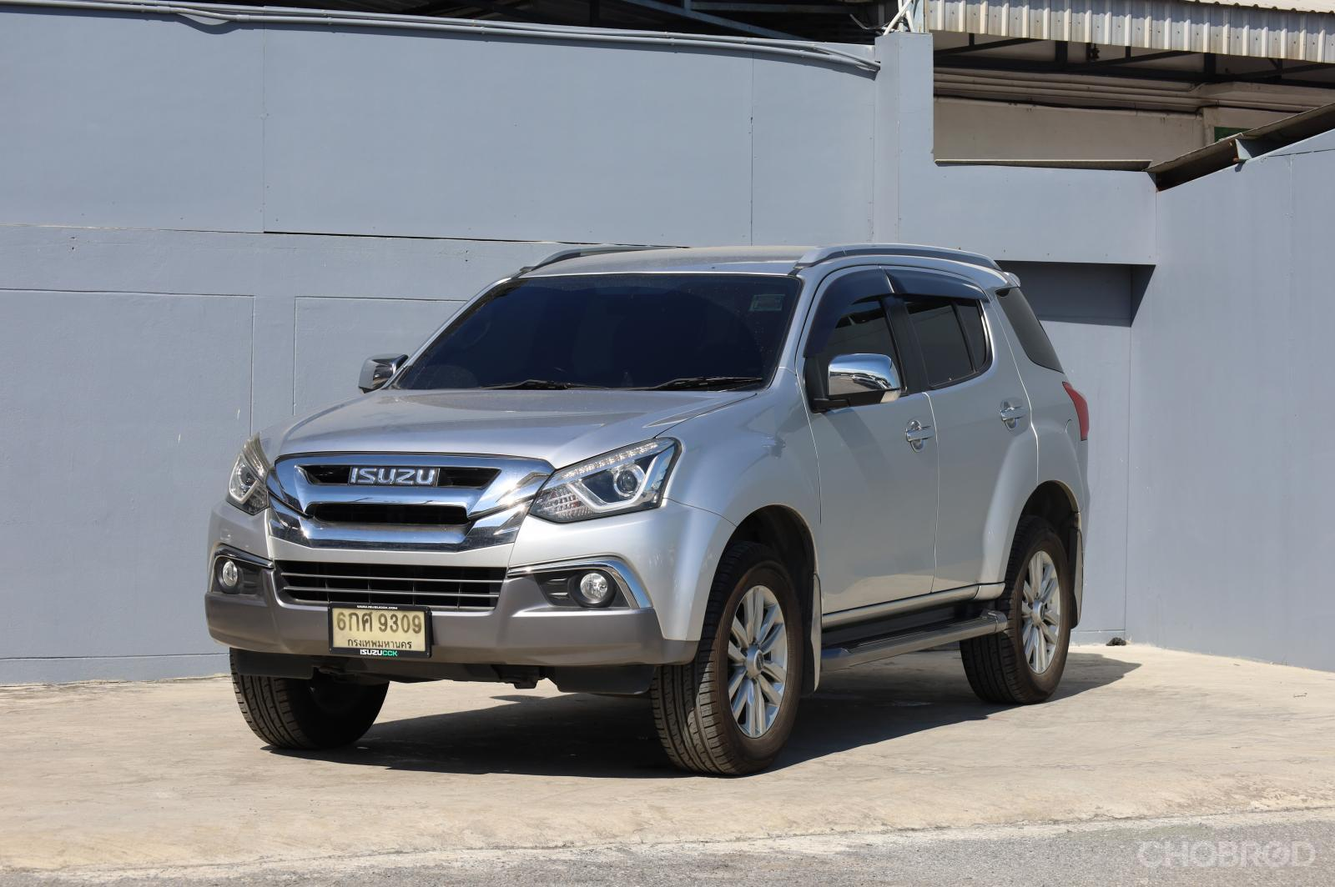license-plate: (326, 600, 433, 660)
